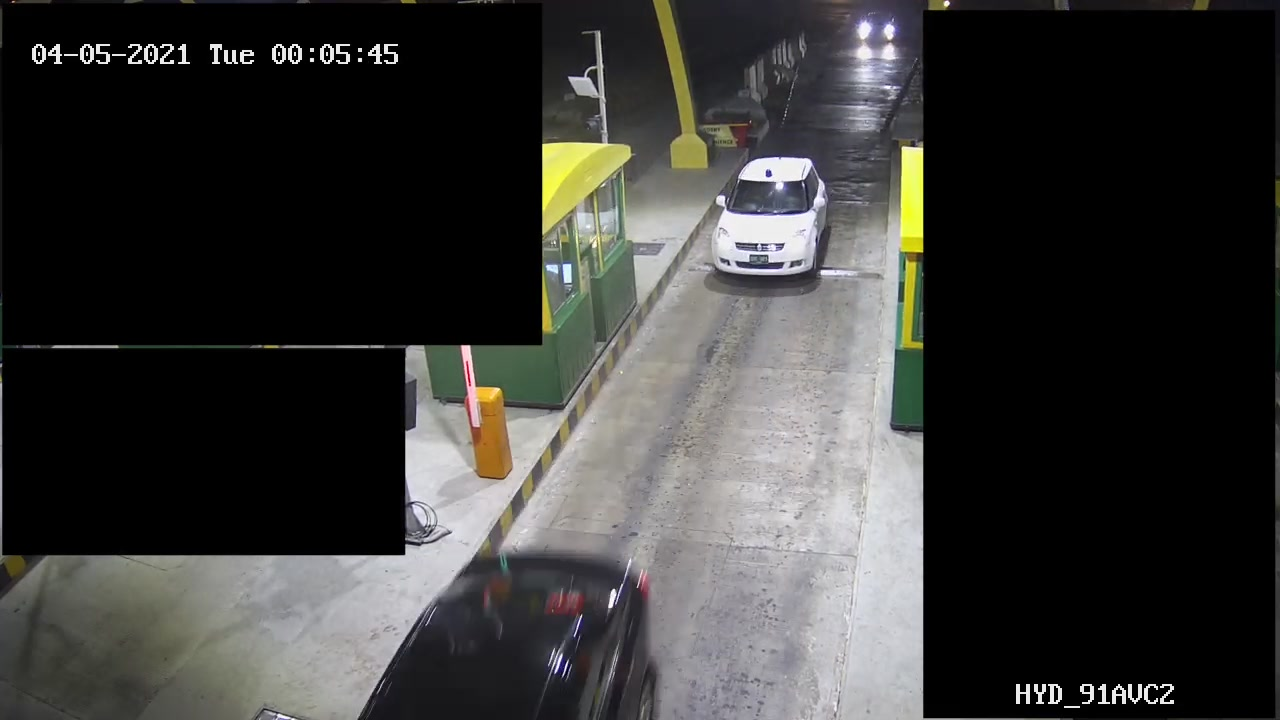F1: (704, 142, 836, 294)
